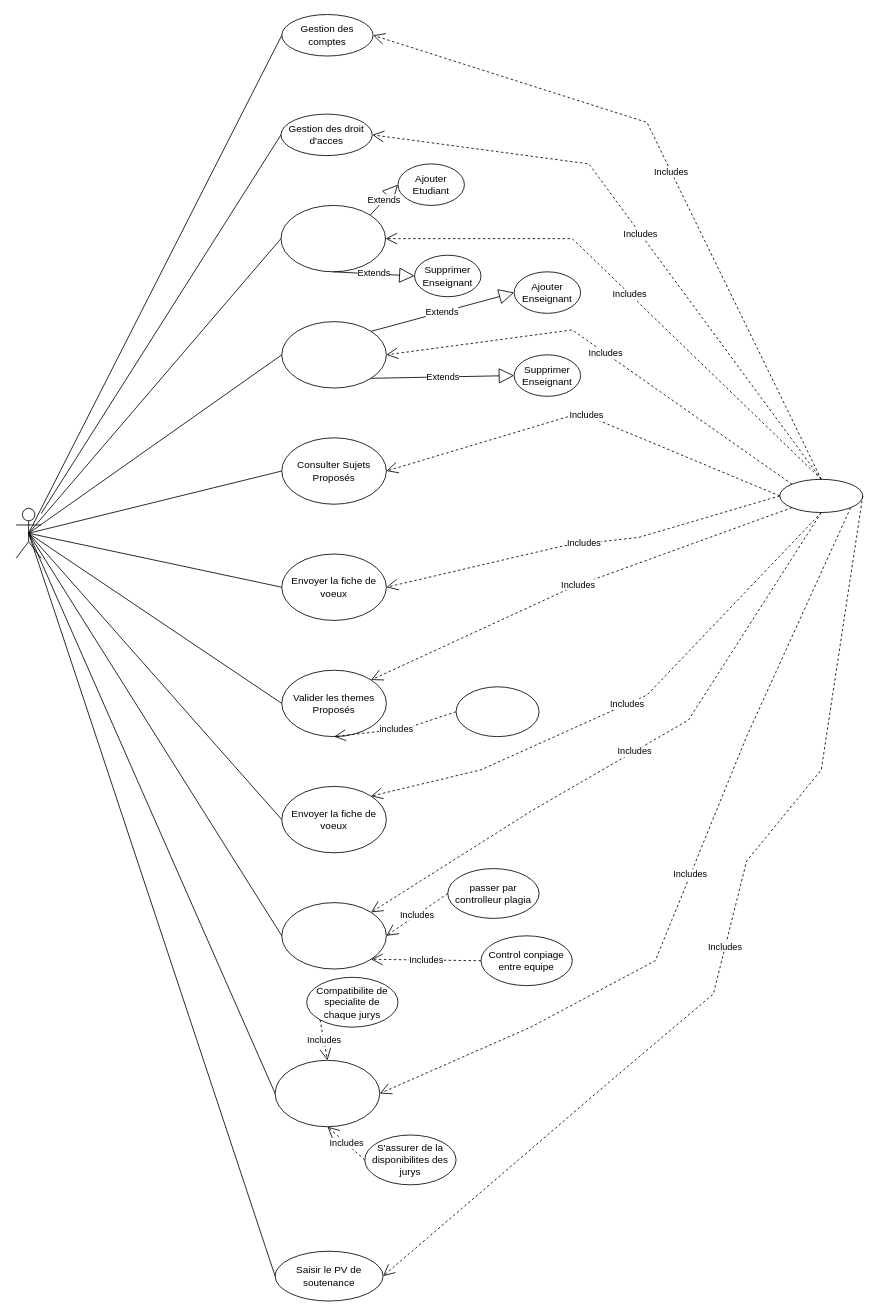
Some shapes in this 889 by 1316 pixel diagram are drawn without their labels. The centre of each missing label's shape, as x and y in pixels:
Admin: point (28, 533)
Mettre Ajour Eseignant: point (333, 354)
Mettre Ajour Etudiants: point (333, 238)
Prisiser les jurys: point (327, 1093)
S'assurer de l'unicite des theses: point (497, 711)
S'authentififier: point (821, 495)
Valider les PFE(projet fait): point (333, 935)
